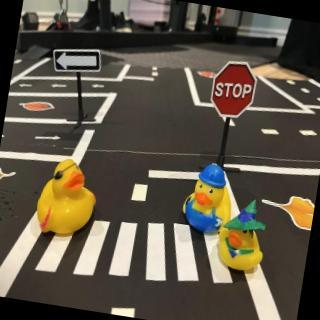duck_regular: (213, 196, 272, 278)
duck_specialty: (34, 156, 104, 243), (180, 161, 240, 239)
road_crosswalk: (34, 198, 245, 305)
road_oneway: (33, 129, 62, 148), (17, 81, 36, 95), (51, 81, 71, 92), (90, 82, 108, 93)
sign_oneway_left: (52, 44, 106, 81)
sign_stop: (209, 59, 261, 127)
